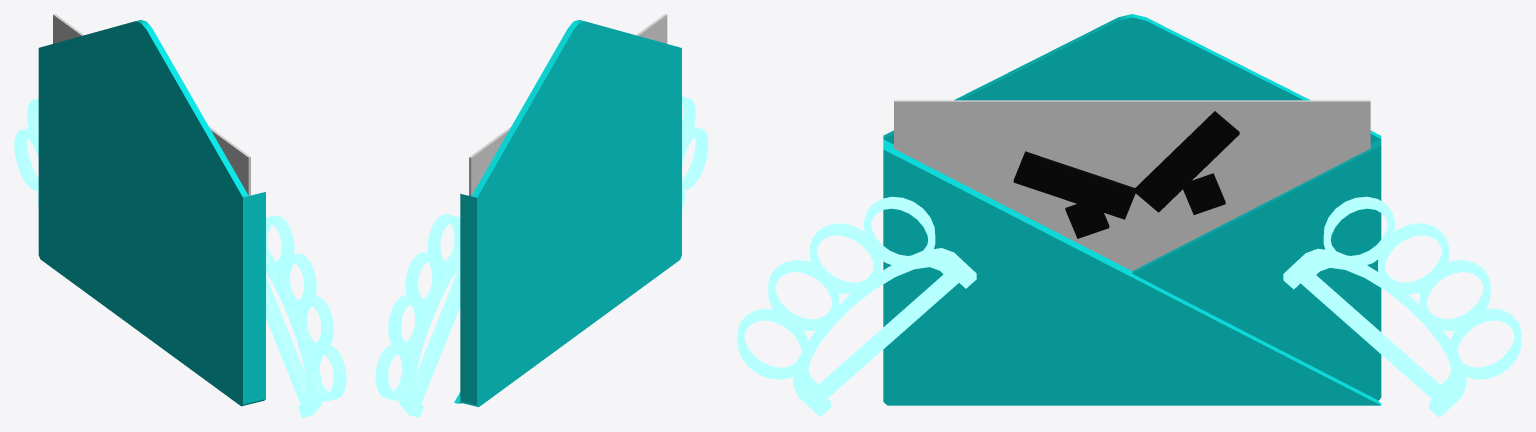
The model's file is Lvl 1 Mail.fbx.
The picture shows the model from 3 angles, left to right: view 1: azimuth 30°, elevation 25°; view 2: azimuth 150°, elevation 25°; view 3: azimuth 270°, elevation 25°; orthographic projection. The views are drawn at different scales.
Parts seen in each view (by area): view 1: Mail_Troop_; view 2: Mail_Troop_; view 3: Mail_Troop_.
Part boxes in pixels (x1=…): Mail_Troop_: x1=14, y1=14, x2=346, y2=417; Mail_Troop_: x1=375, y1=14, x2=708, y2=417; Mail_Troop_: x1=737, y1=14, x2=1521, y2=417.
Bounding box in the file's own units: 0.1379 × 0.9255 × 1.74.
